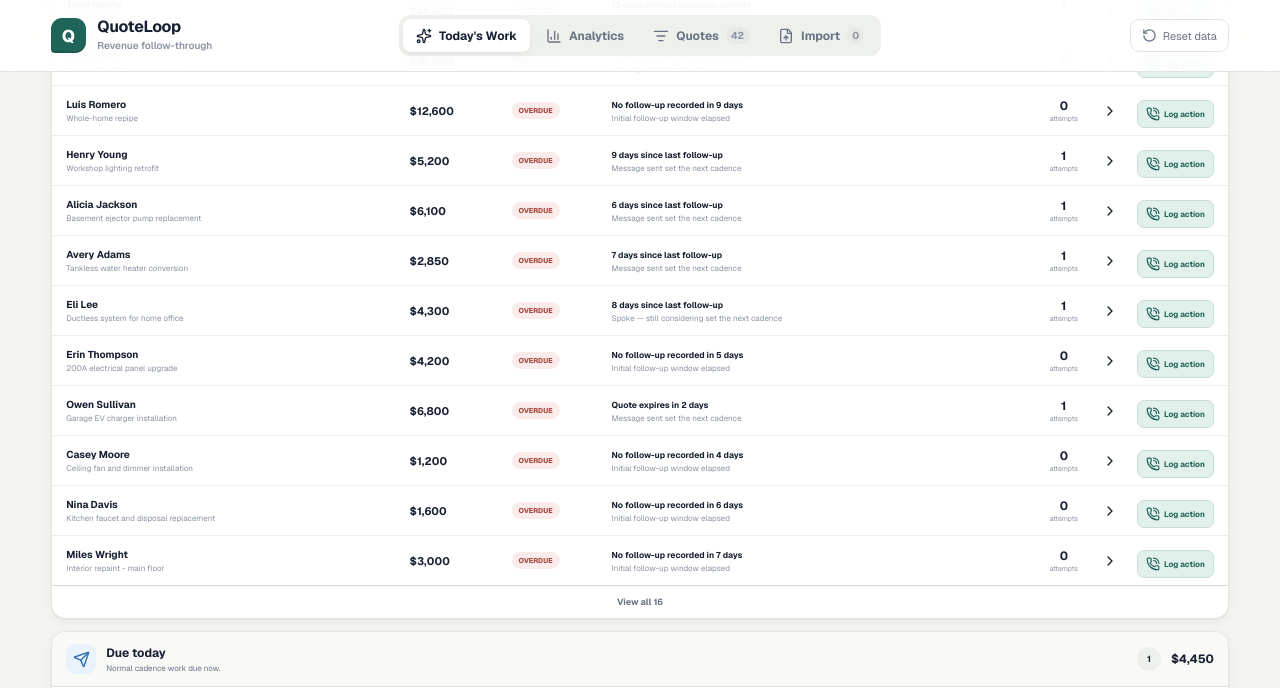
Test: QuoteLoop central workflow › marks an active quote won, updates metrics, and removes it from active lanes
The image size is (1280, 688).
(page scrolled)
Click the button with aria-label "Open quote for Erin Thompson".
click(640, 361)  # box [52, 336, 1228, 385]
(page scrolled)
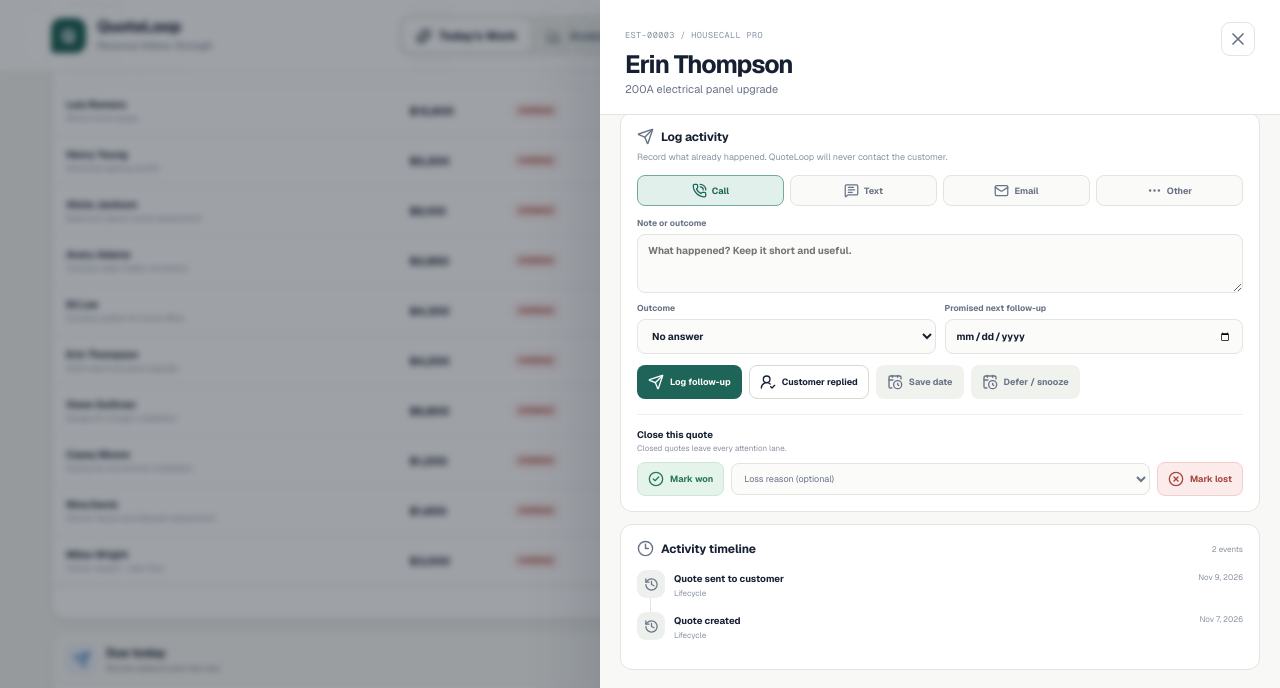
Click the button "Mark won".
click(681, 479)  # box [637, 462, 724, 496]
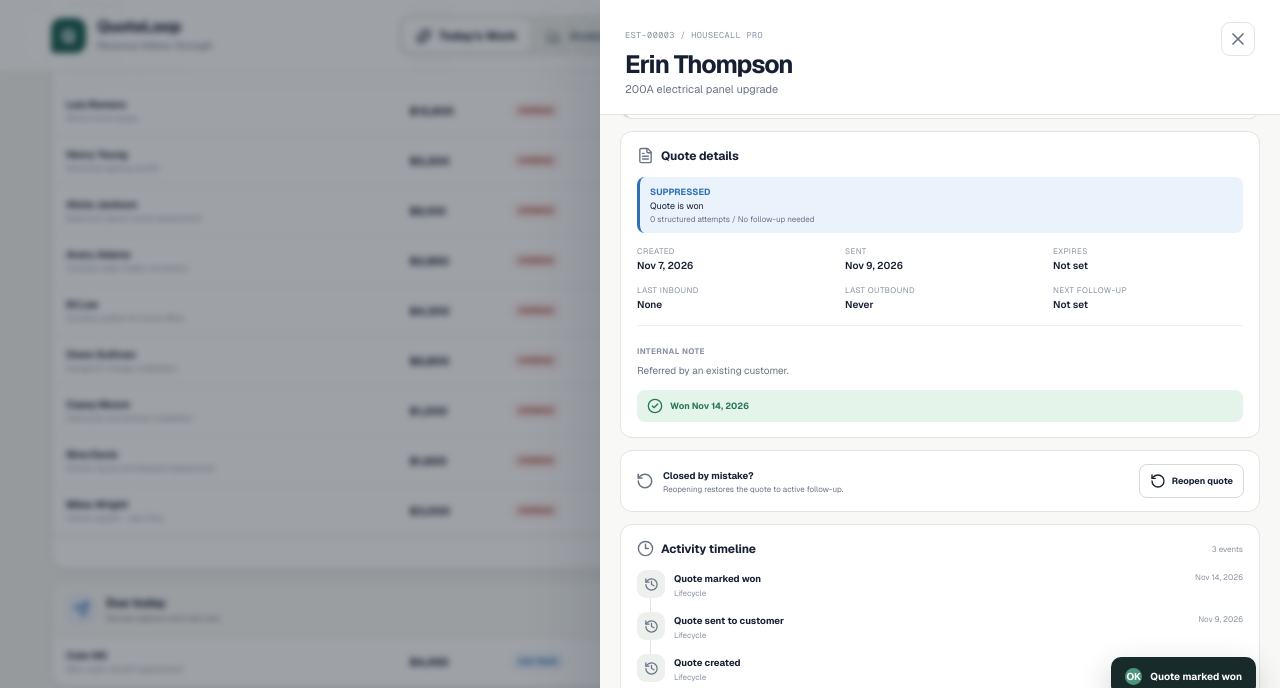
Now the message shows "Quote marked won", box [1150, 670, 1242, 683]
